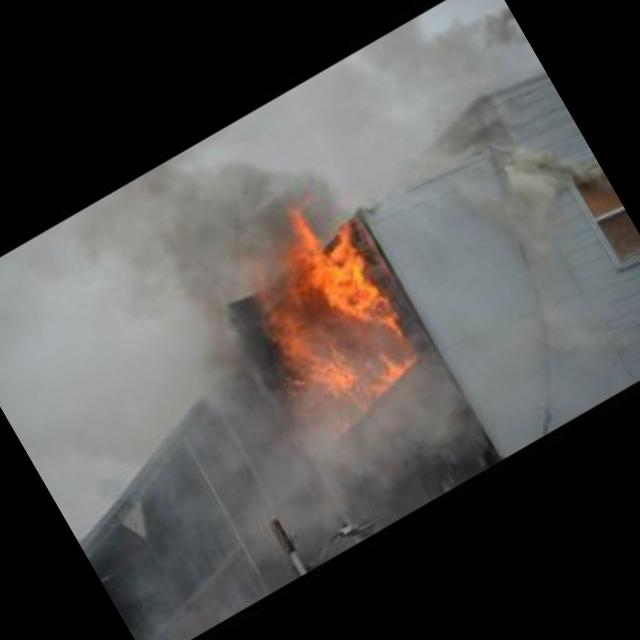fire: (206, 172, 454, 448)
smoke: (201, 314, 518, 574), (80, 96, 353, 329)
